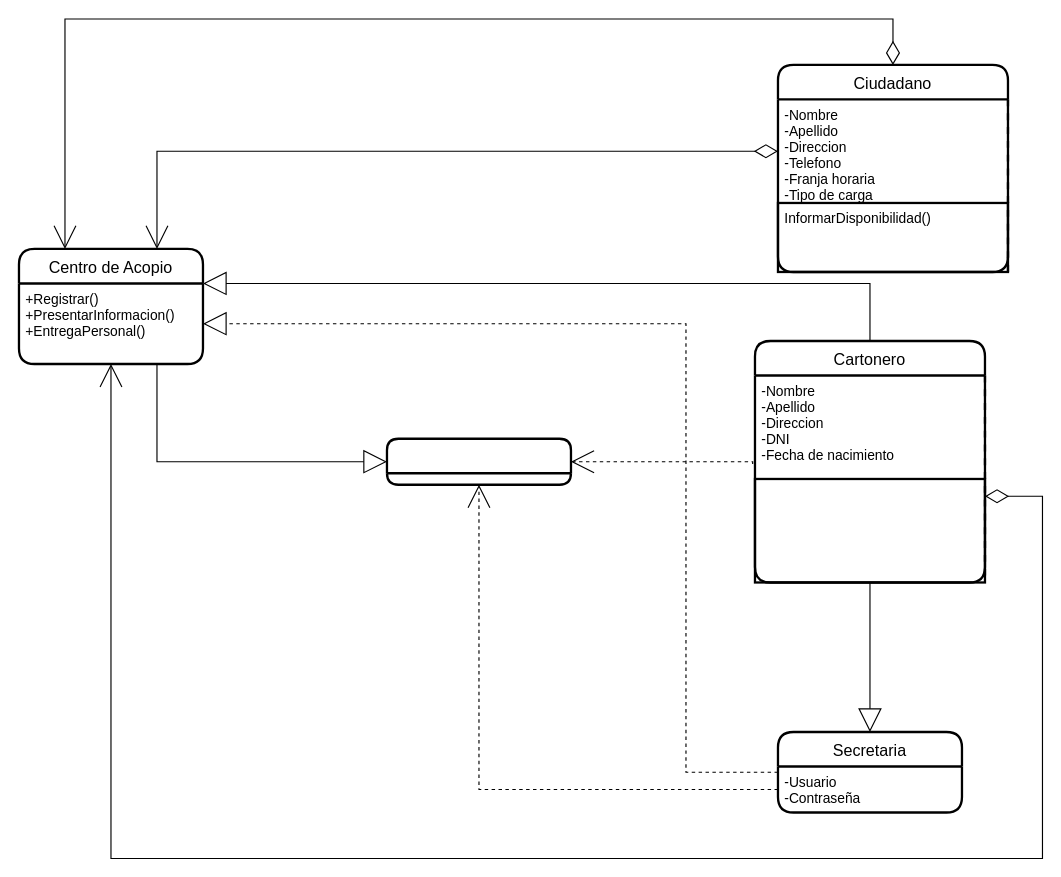
The diagram is 1061 pixels wide and 877 high, and some of its shapes have lost their labels. Here are the shapes that lost their labels. From the top down, the centre of each, then its label:
At point 478,461: "Personal".
At point 869,530: "+RealizarElRecorrido(Cartonero C)".
